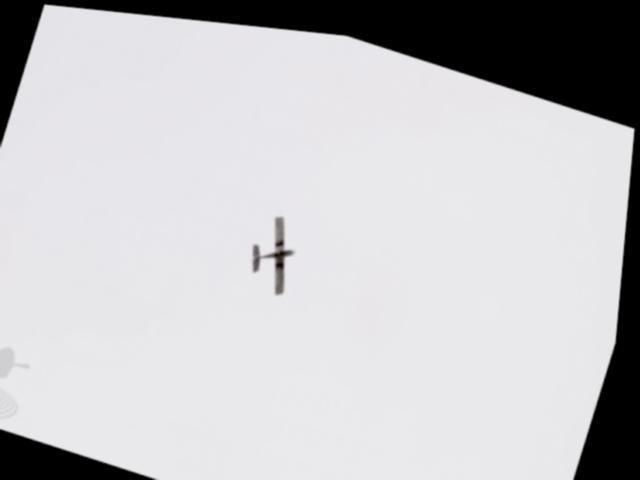uav: (245, 202, 310, 295)
